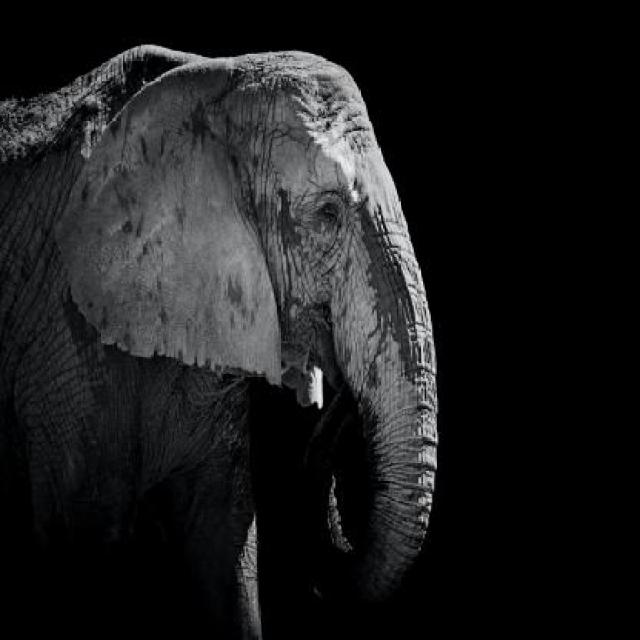Elephant: (0, 34, 445, 638)
